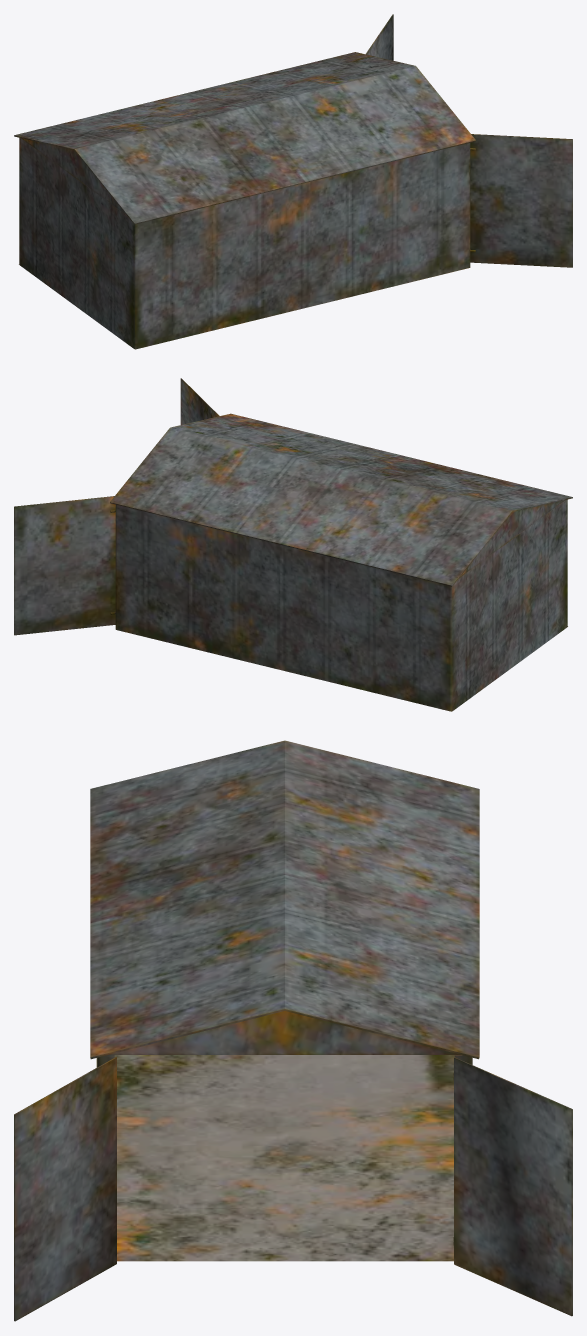
The model's file is garage_d.glb.
3 views of the same model, one above another, from view 1: azimuth 30°, elevation 25°; view 2: azimuth 150°, elevation 25°; view 3: azimuth 270°, elevation 25° (orthographic). The views are drawn at different scales.
Visible parts, largest first — view 1: garage_4; view 2: garage_4; view 3: garage_4.
Part boxes in pixels (x1,y1,x2,y2): garage_4: [14, 14, 572, 349]; garage_4: [14, 378, 572, 711]; garage_4: [14, 740, 572, 1321].
Size of the model in its own units: 6.77 by 2.47 by 4.9.
1 material, 1 textured.
